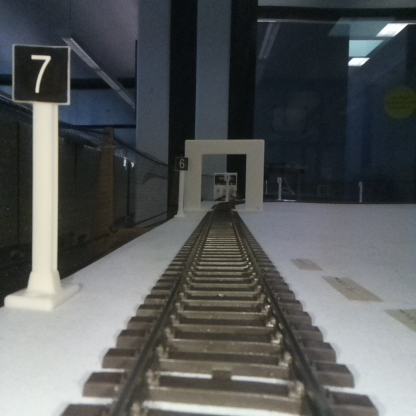black-info-6: (176, 157, 188, 216)
black-info-7: (13, 45, 68, 305)
